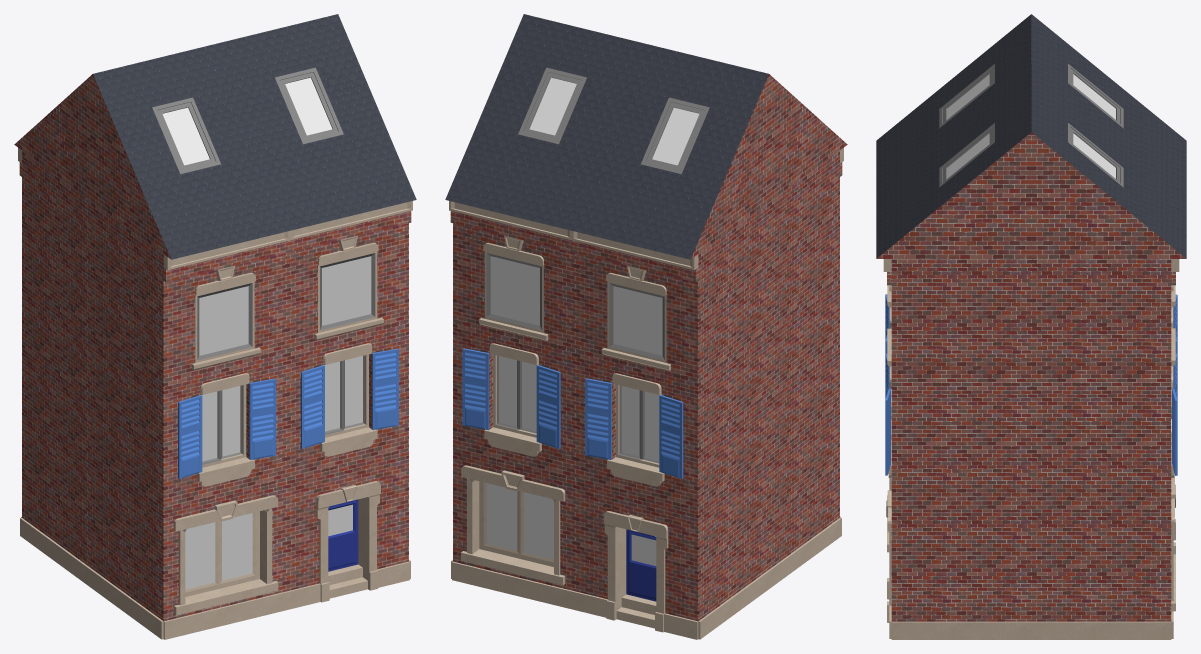
File: Amiennoise1.fbx
3 renders of one model, left to right at view 1: azimuth 30°, elevation 25°; view 2: azimuth 150°, elevation 25°; view 3: azimuth 270°, elevation 25°, orthographic.
Parts seen in each view (by area): view 1: AmiennoiseMErged.016; view 2: AmiennoiseMErged.016; view 3: AmiennoiseMErged.016.
Boxes of the visible parts, <box> form: AmiennoiseMErged.016: <box>14,14,416,639</box>; AmiennoiseMErged.016: <box>445,14,847,639</box>; AmiennoiseMErged.016: <box>876,14,1186,639</box>.
Size of the model in its own units: 609 by 1200 by 666.
